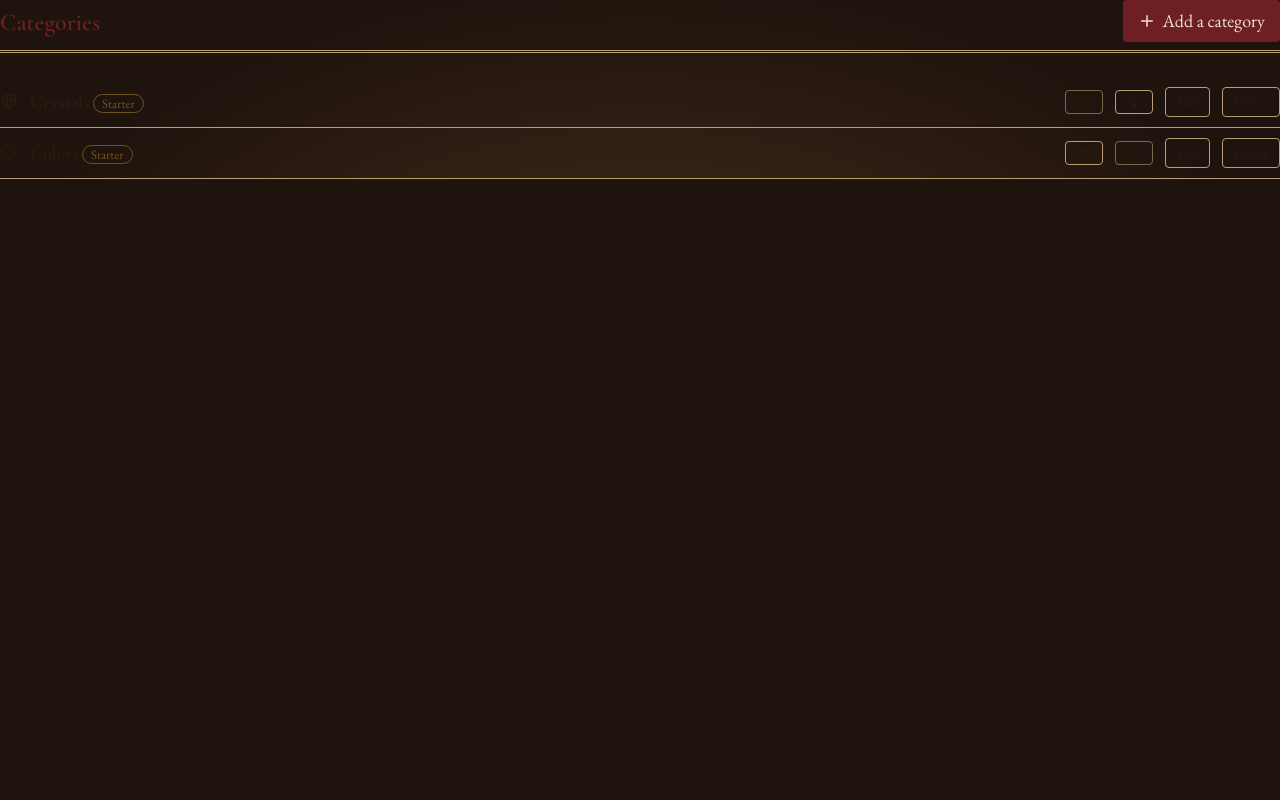
Test case: Categories › picks an icon with the keyboard
Click the button "Add a category" at (1202, 21), box x1=1123 y1=0 x2=1279 y2=42
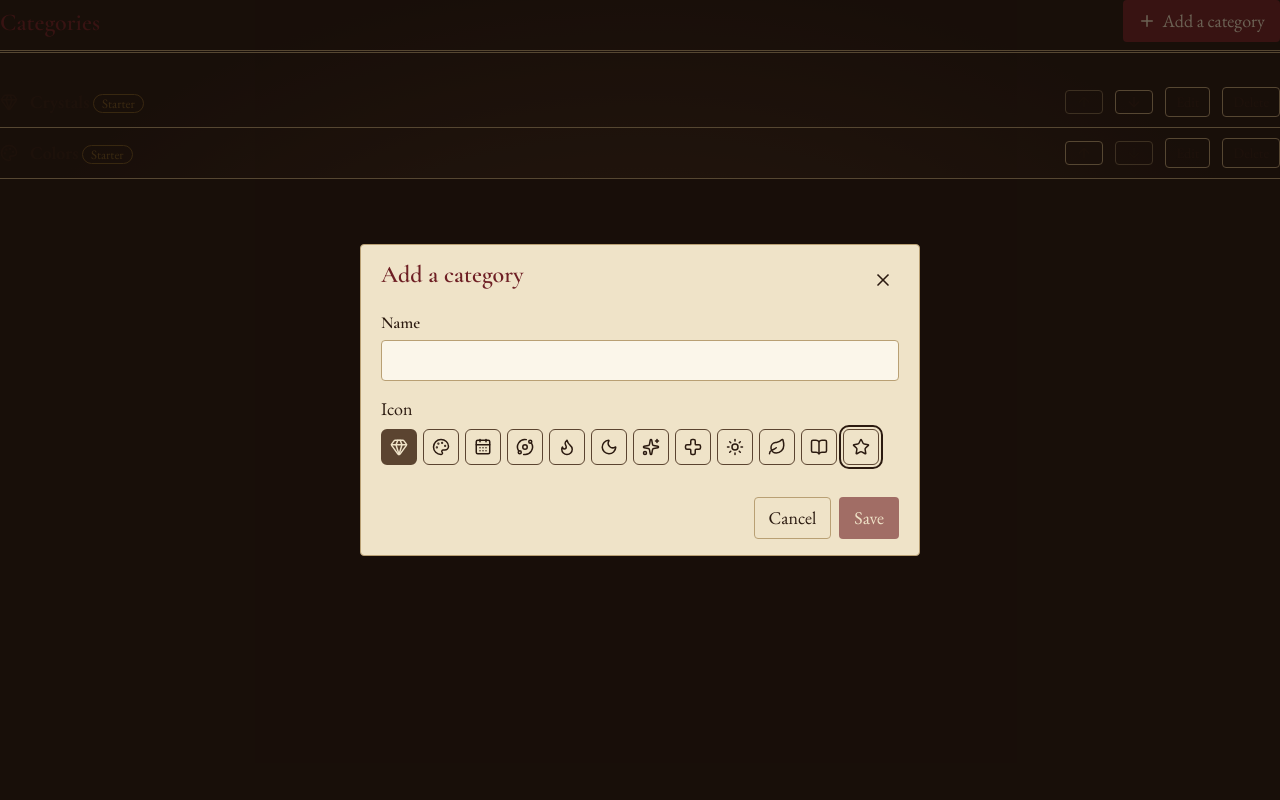
Press Arrowleft
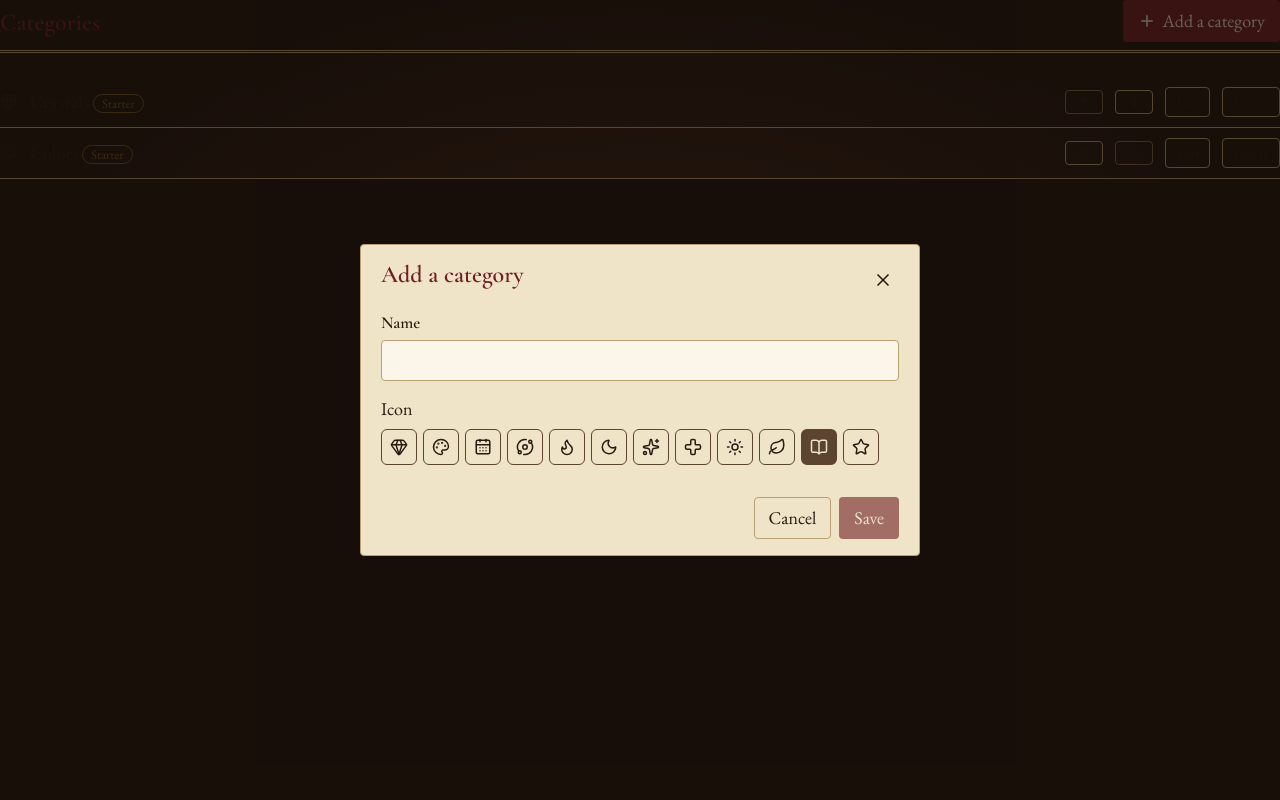
expect the radio button named "Book" is checked: met, box x1=801 y1=429 x2=837 y2=465
